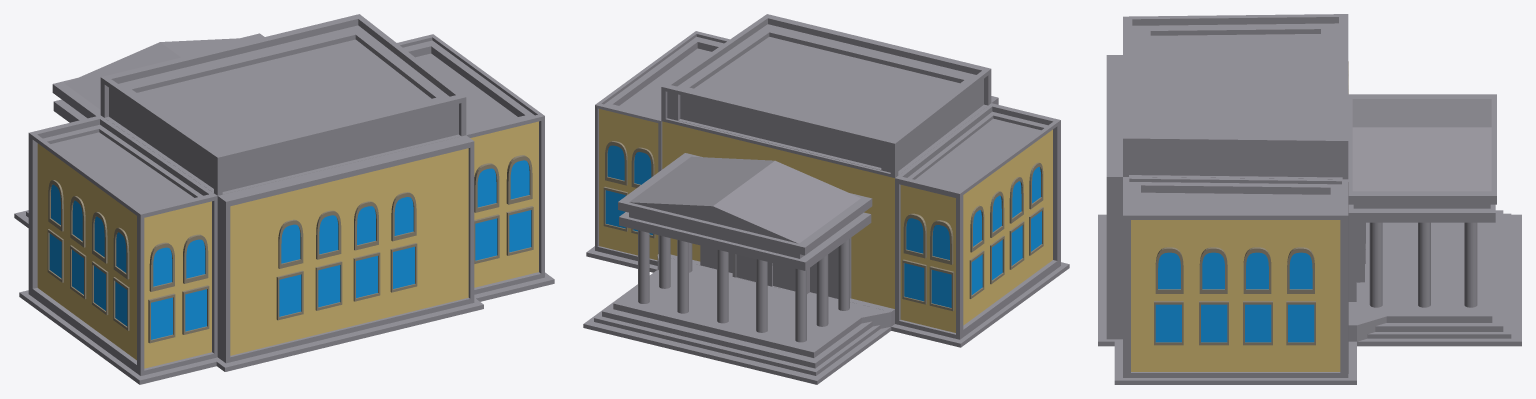
Rendered from new_library_02_04.fbx.
3 renders of one model, left to right at view 1: azimuth 30°, elevation 25°; view 2: azimuth 150°, elevation 25°; view 3: azimuth 270°, elevation 25°, orthographic. The views are drawn at different scales.
Parts seen in each view (by area): view 1: Cube, Cube.001, okno_basic.014, okno_basic.013, okno_basic.012, okno_basic.011, okno_basic.008, okno_basic.010, okno_basic.009, okno_basic_2.014, okno_basic.015, okno_basic_2.015 (+14 smaller); view 2: Cube, Cube.001, okno_basic.018, okno_basic.019, okno_basic_2.018, okno_basic_2.019, okno_basic_2.017, Cylinder.007, Cylinder.006, Cylinder.003, Cylinder, Cylinder.004 (+13 smaller); view 3: Cube, Cube.001, okno_basic, okno_basic.001, okno_basic.002, okno_basic.003, okno_basic_2.001, okno_basic_2.002, okno_basic_2.003, okno_basic_2, Cylinder, Cylinder.002 (+1 smaller).
Part boxes in pixels (box(x1,y1,x2,y2)): Cube: box(14, 14, 554, 384); Cube.001: box(52, 33, 264, 122); okno_basic.014: box(506, 206, 533, 255); okno_basic.013: box(148, 293, 175, 343); okno_basic.012: box(182, 285, 209, 334); okno_basic.011: box(276, 270, 303, 320); okno_basic.008: box(390, 243, 417, 292); okno_basic.010: box(315, 261, 342, 310); okno_basic.009: box(353, 252, 380, 301); okno_basic_2.014: box(506, 155, 532, 204); okno_basic.015: box(474, 214, 499, 263); okno_basic_2.015: box(474, 163, 499, 212); Cube: box(583, 14, 1069, 384); Cube.001: box(618, 153, 872, 270); okno_basic.018: box(929, 266, 954, 311); okno_basic.019: box(902, 259, 926, 304); okno_basic_2.018: box(930, 220, 953, 264); okno_basic_2.019: box(903, 213, 926, 258); okno_basic_2.017: box(605, 141, 627, 185); Cylinder.007: box(816, 254, 828, 326); Cylinder.006: box(795, 268, 806, 342); Cylinder.003: box(677, 240, 688, 313); Cylinder: box(638, 230, 649, 303); Cylinder.004: box(717, 249, 728, 323); Cube: box(1098, 14, 1521, 384); Cube.001: box(1348, 94, 1496, 222); okno_basic: box(1286, 301, 1315, 345); okno_basic.001: box(1243, 301, 1272, 345); okno_basic.002: box(1199, 301, 1228, 345); okno_basic.003: box(1154, 301, 1183, 345); okno_basic_2.001: box(1243, 247, 1271, 293); okno_basic_2.002: box(1199, 247, 1227, 293); okno_basic_2.003: box(1155, 247, 1183, 293); okno_basic_2: box(1287, 247, 1314, 293); Cylinder: box(1464, 222, 1477, 307); Cylinder.002: box(1369, 222, 1382, 307).
Bounding box in the file's own units: 2007 × 943 × 1765.
